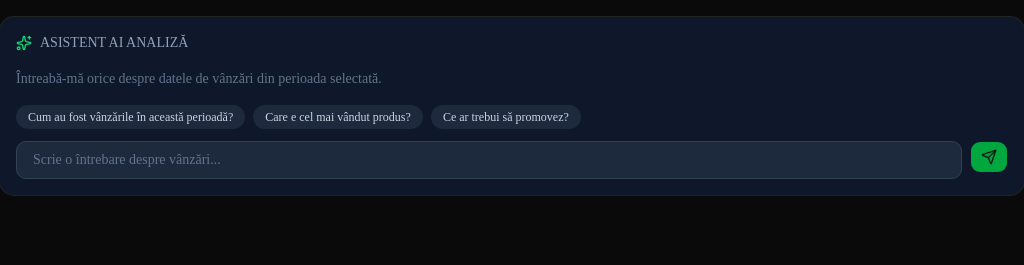
Test: ManagerInsightsChat › sends a suggestion chip when clicked
The image size is (1024, 265).
Step 1. Click the button "Care e cel mai vândut produs?" → coordinates (338, 117), box [253,105,423,129]
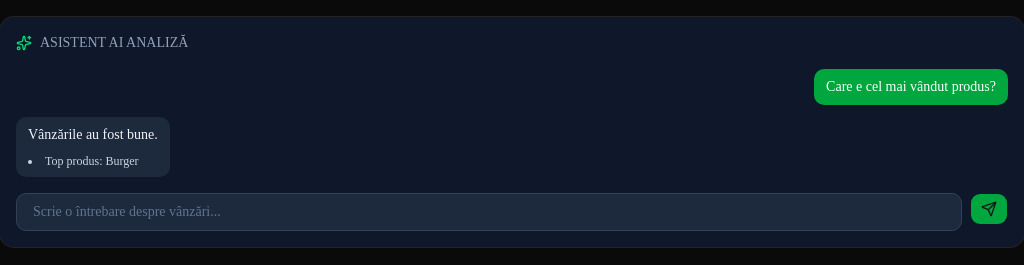
Check: the text "Vânzările au fost bune." is shown, box [28,125,158,145]
